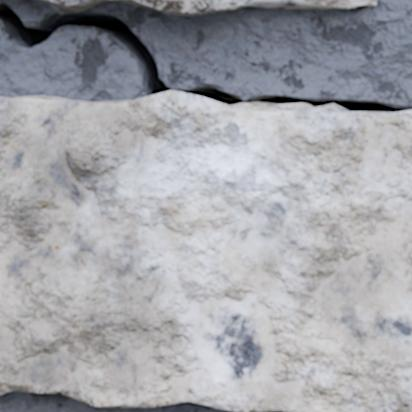brick: (0, 91, 411, 411), (118, 0, 376, 14), (41, 0, 109, 11)
crack: (0, 0, 411, 113)
